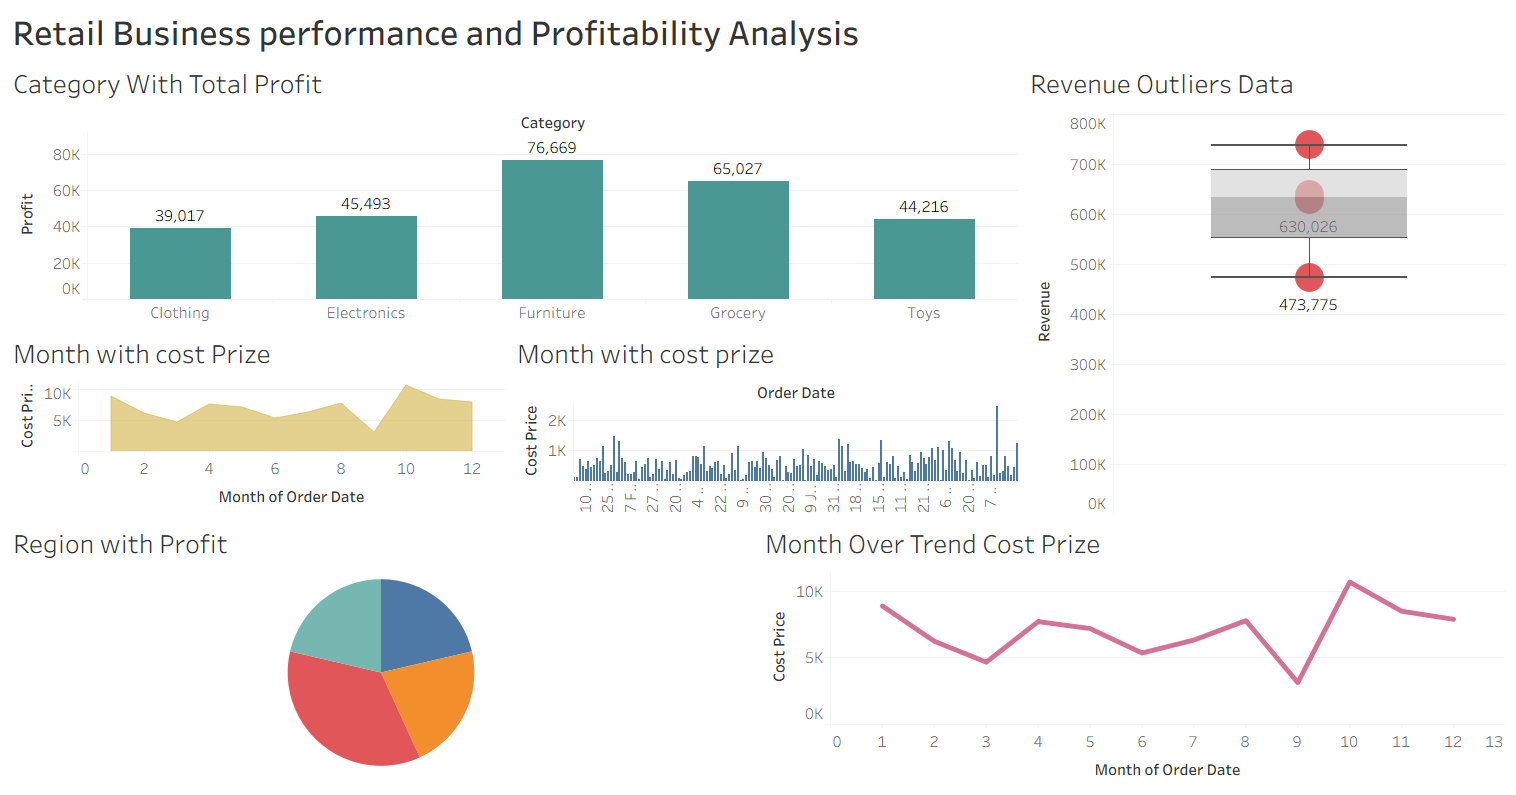

This screenshot's page, from the dashboard's own definition file:
{"tool":"tableau","page":{"name":"Dashboard 1","canvas":[1000,1000],"units":"permille","ordinal":0},"visuals":[{"type":"title","box":[5.3,10,989.5,66.1]},{"type":"worksheet","title":"Sheet 1","mark":"Automatic","rows":["Profit"],"cols":["Category"],"box":[5.3,76.1,669.1,336.8]},{"type":"worksheet","title":"Sheet 3","mark":"Circle","rows":["Revenue"],"box":[674.3,76.1,320.4,573.6]},{"type":"worksheet","title":"Sheet 5","mark":"Area","rows":["Cost_Price"],"cols":["Order_Date"],"box":[5.3,412.8,331.6,236.8]},{"type":"worksheet","title":"Sheet 6","mark":"Bar","rows":["Cost_Price"],"cols":["Order_Date"],"box":[336.8,412.8,337.5,236.8]},{"type":"worksheet","title":"Sheet 2","mark":"Pie","box":[5.3,649.6,494.6,340.4]},{"type":"worksheet","title":"Sheet 4","mark":"Automatic","rows":["Cost_Price"],"cols":["Order_Date"],"box":[499.9,649.6,494.9,340.4]}]}

Visuals, with their boxes on the dashboard's canvas, which has no fixed pixel size, in thousandths of its width and height (x1, y1, x2, y2). These are canvas units, not pixel positions in the 1516x795 screenshot, which may show the page scaled, cropped or inside an application window:
title: BBox(5, 10, 995, 76)
"Sheet 1" worksheet: BBox(5, 76, 674, 413)
"Sheet 3" worksheet (Circle marks): BBox(674, 76, 995, 650)
"Sheet 5" worksheet (Area marks): BBox(5, 413, 337, 650)
"Sheet 6" worksheet (Bar marks): BBox(337, 413, 674, 650)
"Sheet 2" worksheet (Pie marks): BBox(5, 650, 500, 990)
"Sheet 4" worksheet: BBox(500, 650, 995, 990)
